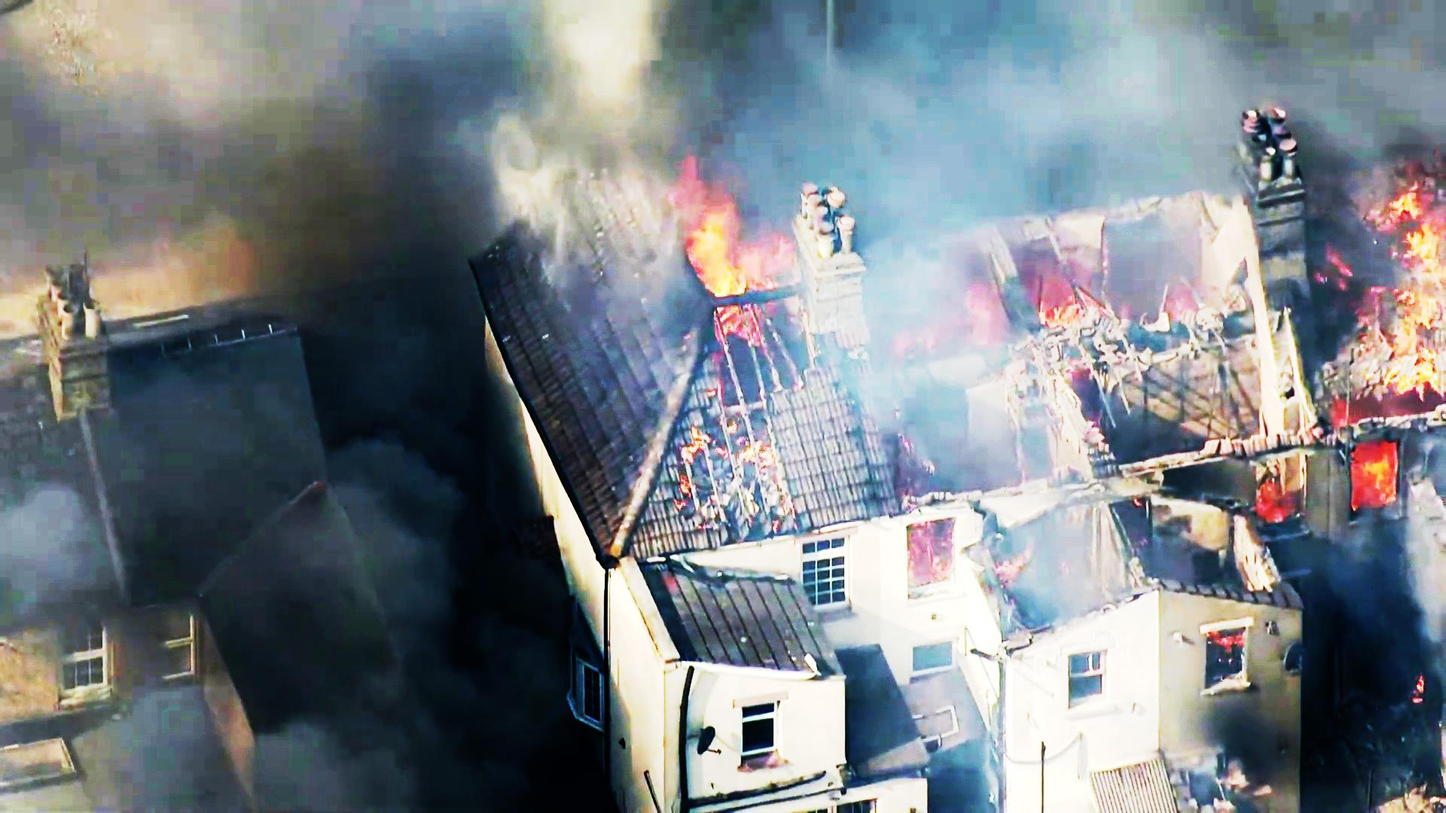fire: (1313, 164, 1446, 426), (659, 160, 816, 311)
